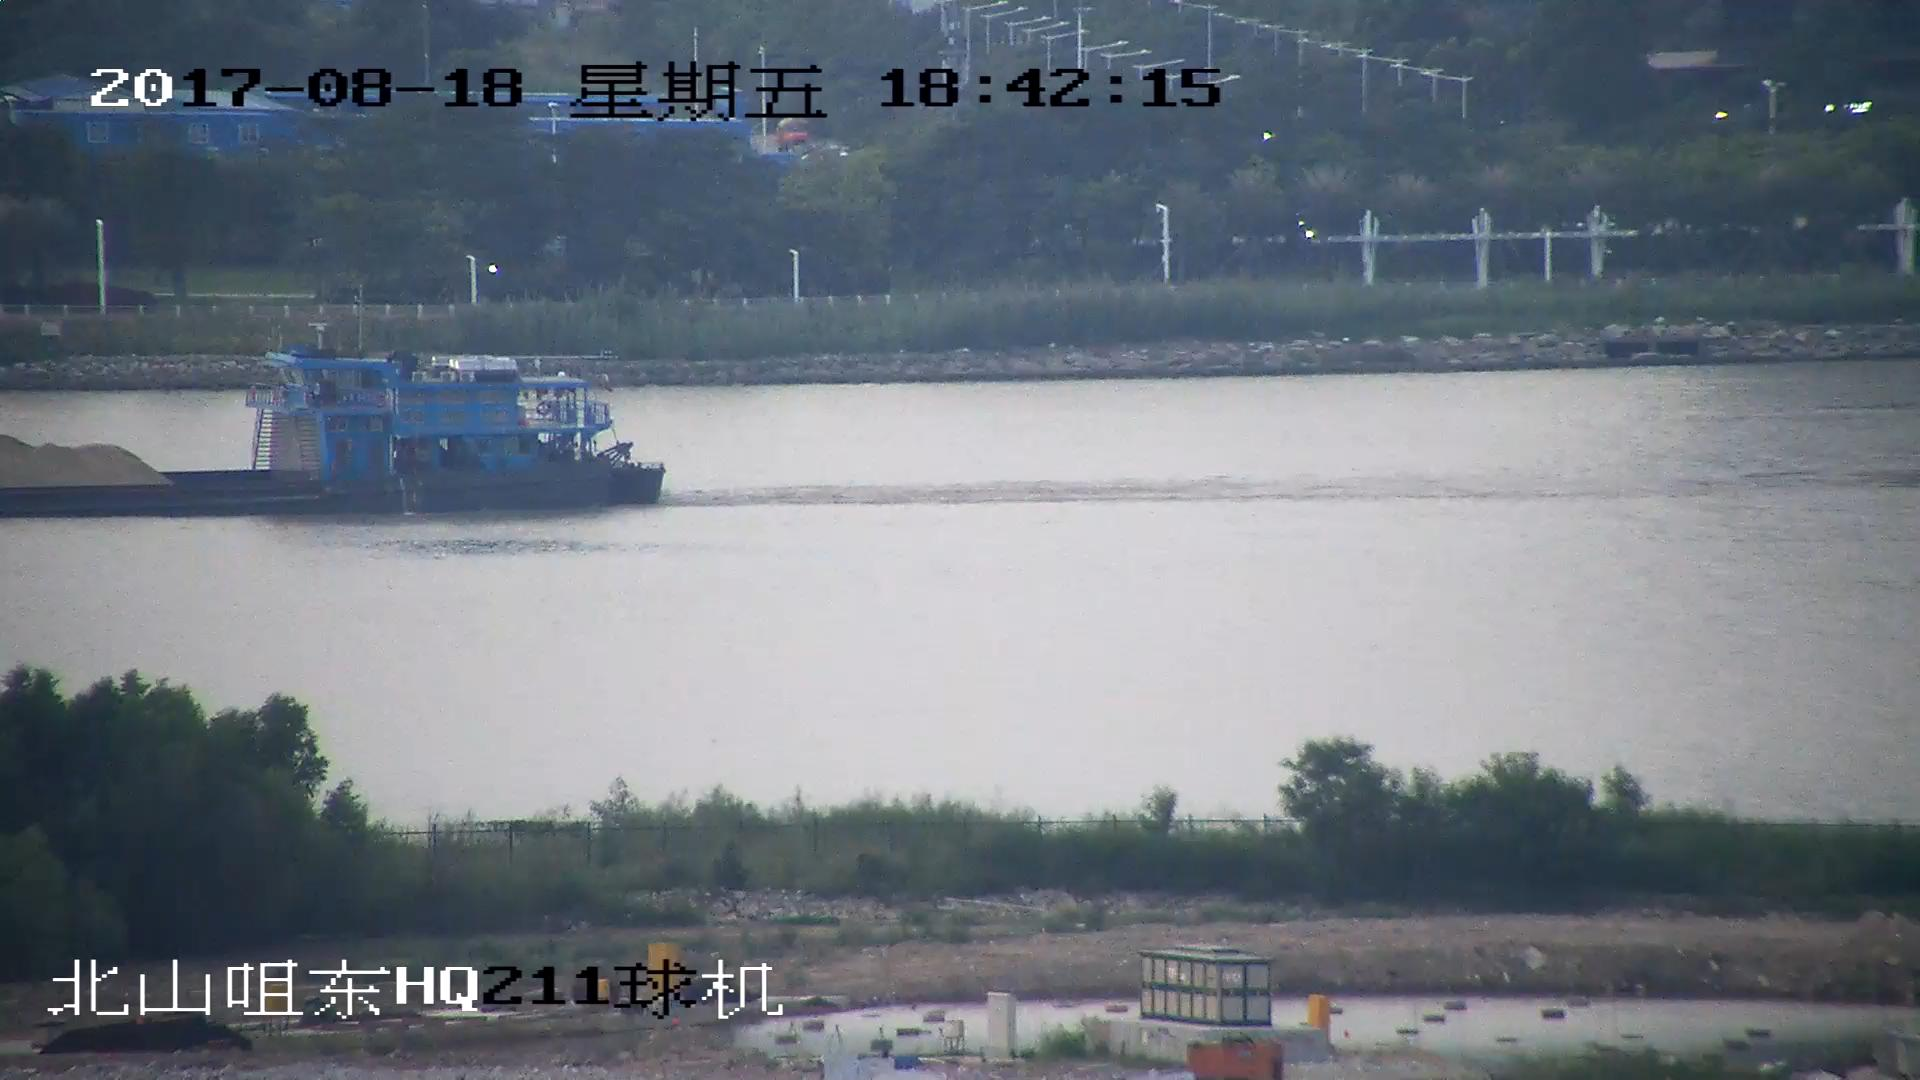ore carrier: (1, 330, 662, 518)
